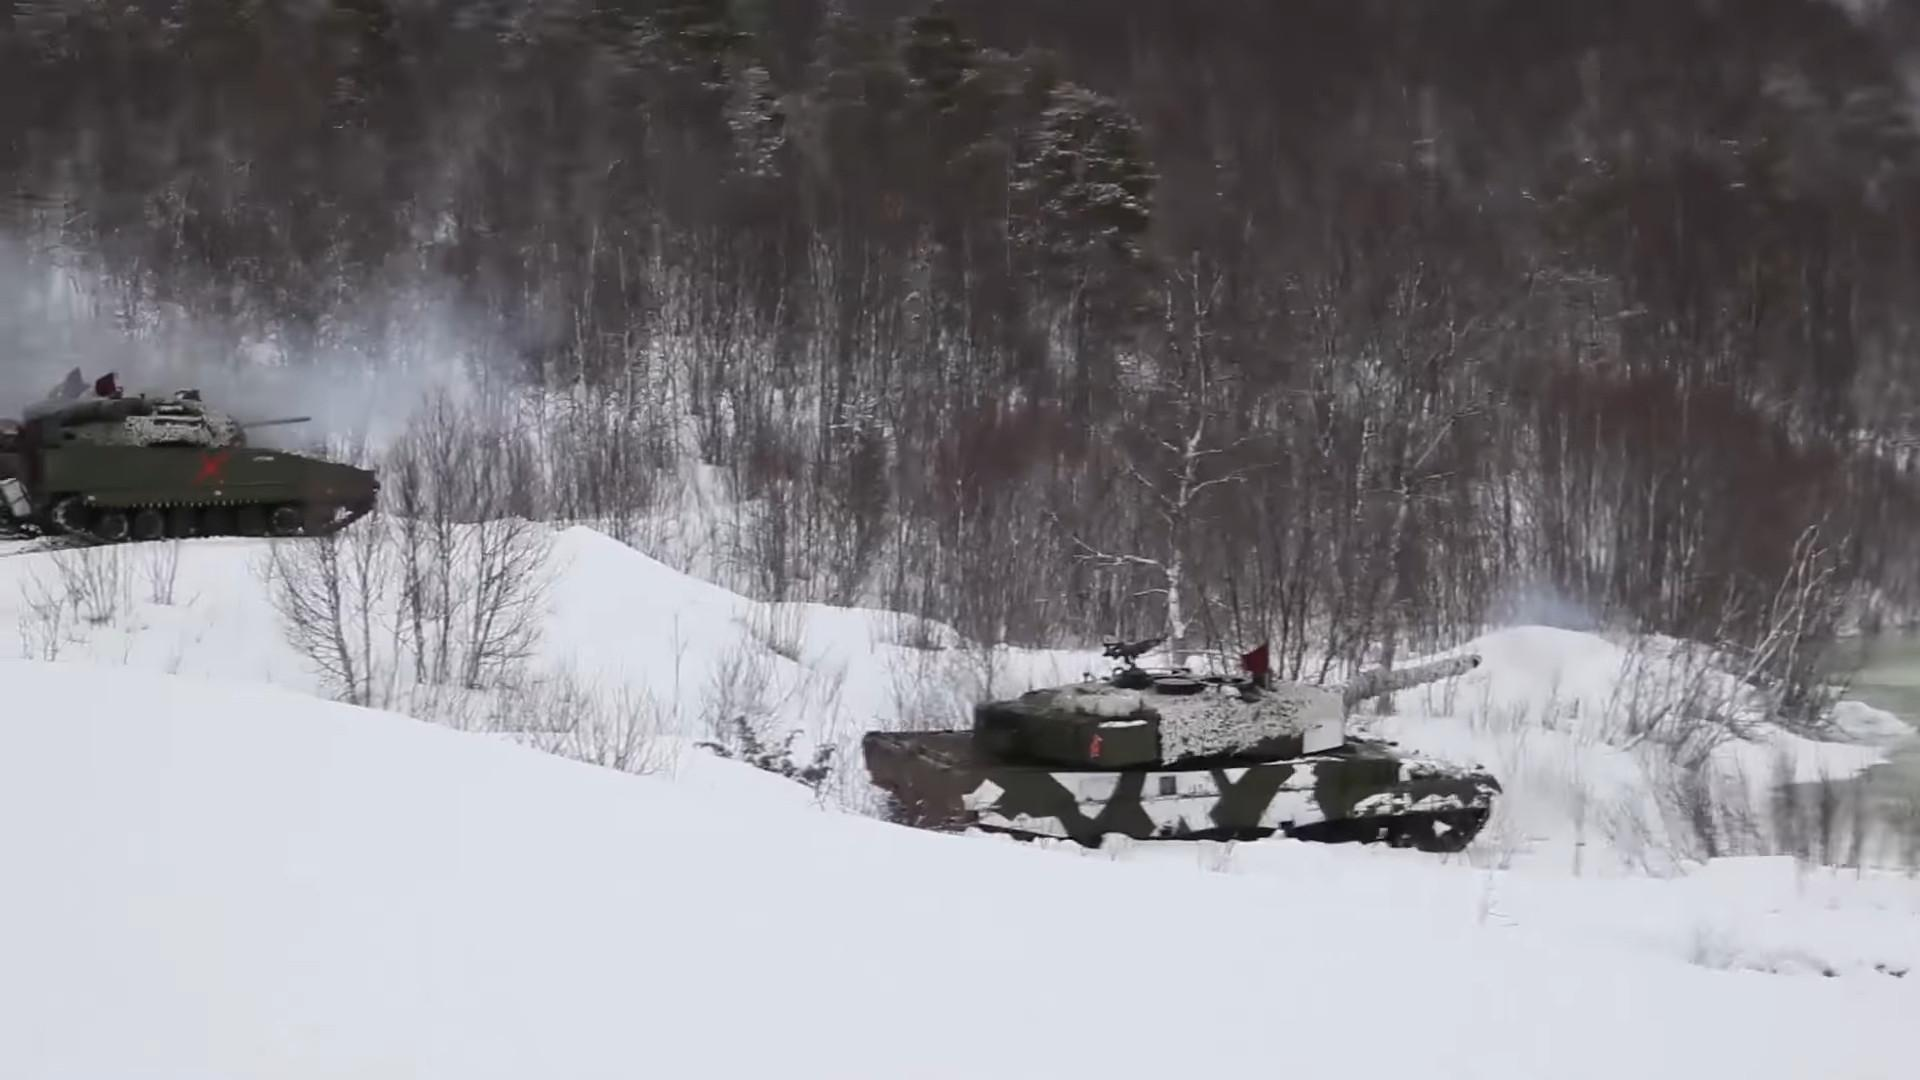tank: (860, 658, 1493, 853), (0, 389, 377, 543)
